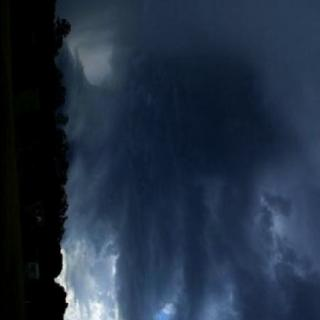Cumulonimbus: (67, 0, 320, 320)
